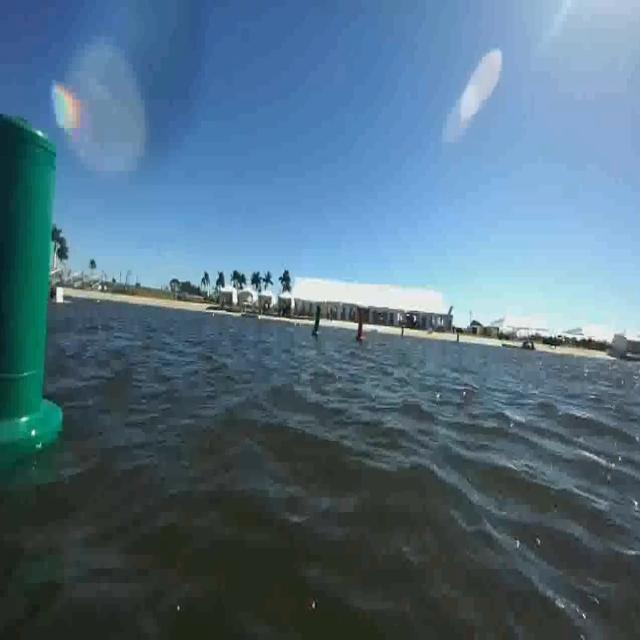green-column-buoy: (1, 118, 66, 462), (312, 303, 323, 337)
red-column-buoy: (356, 314, 366, 345)
